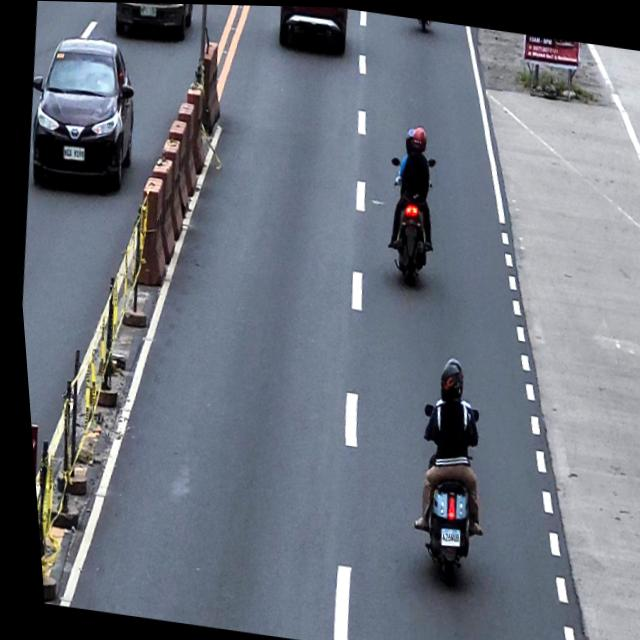Car: (16, 28, 145, 197), (109, 2, 196, 43)
License-Plate: (429, 522, 454, 546), (58, 144, 83, 163), (138, 2, 158, 18)
Motorcycle: (394, 397, 484, 585), (373, 149, 442, 285)
